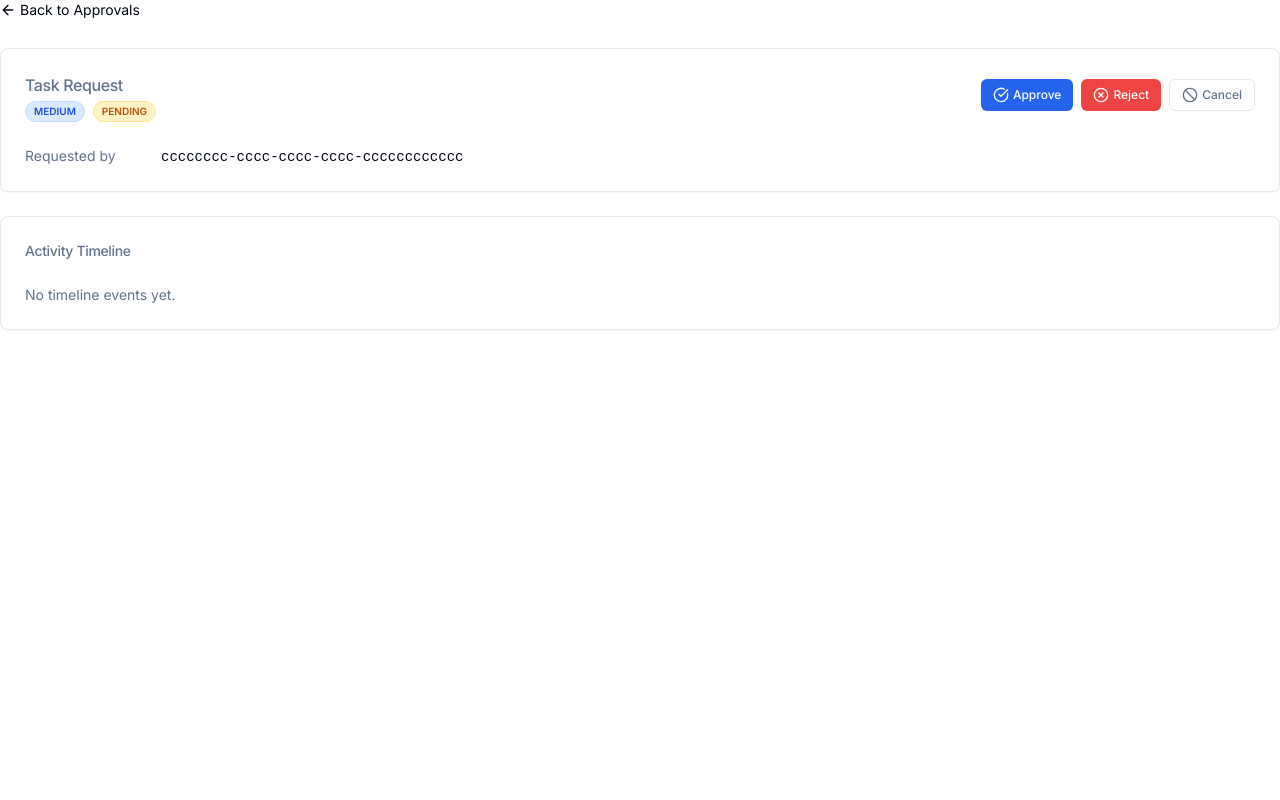
Test: ApprovalDetailPage › approve dialog › shows error when approve fails
Step 1. Click the button with test id "approve-btn" → [1027, 95], box [981,79,1073,111]
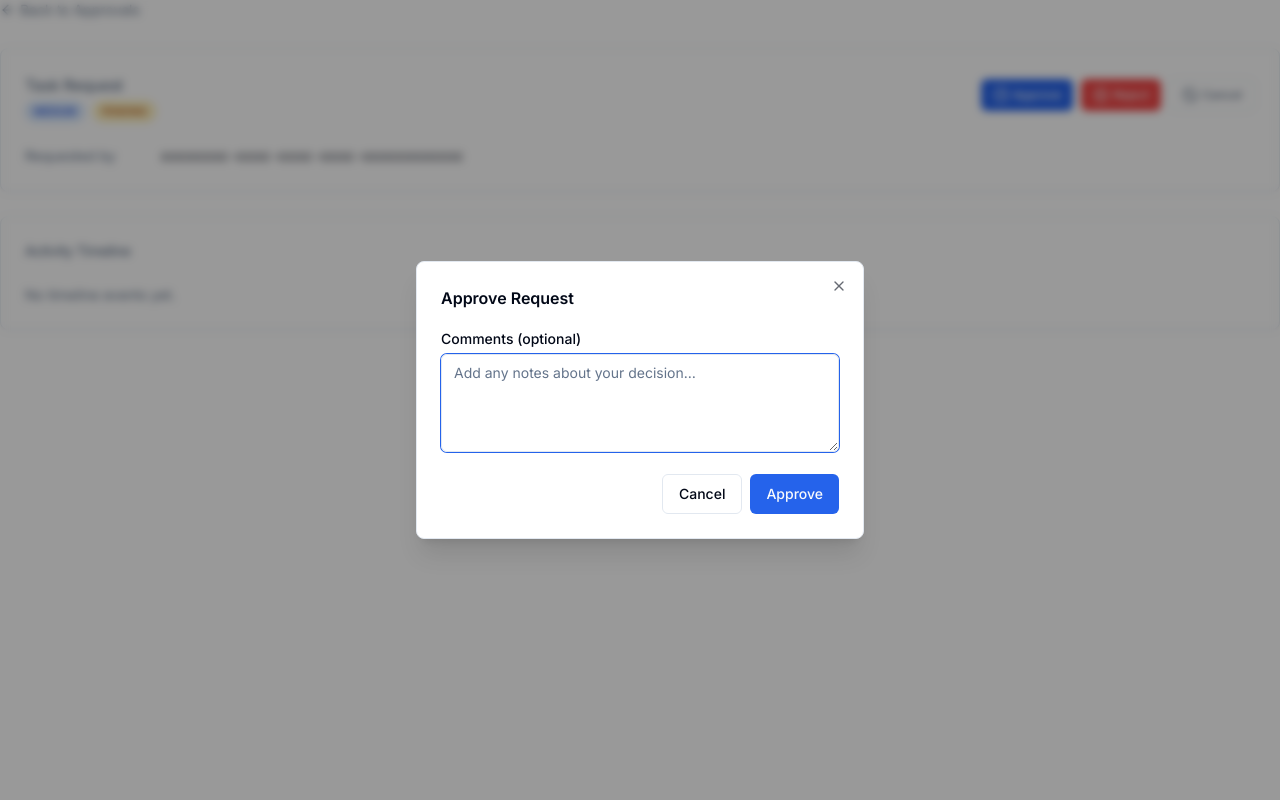
Step 2. Submit the form, box [441,326,839,514]
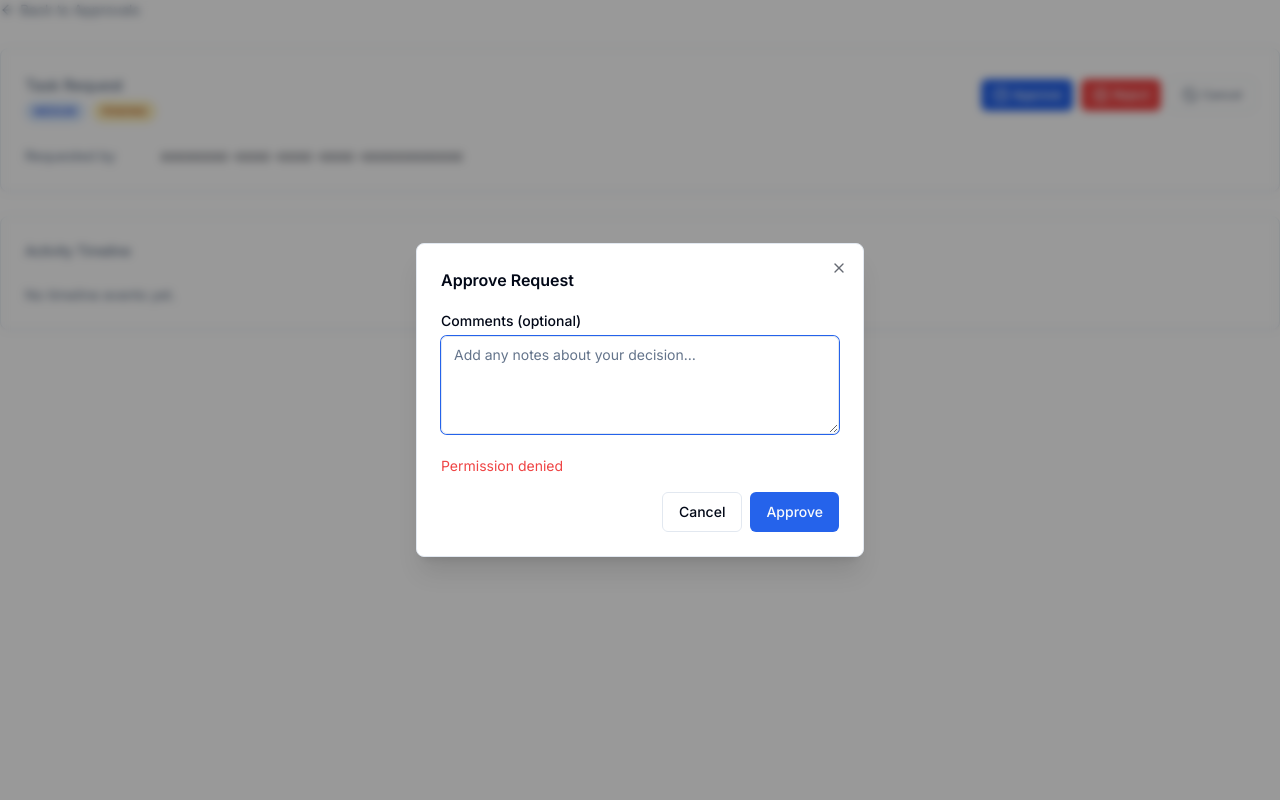
expect the text "Permission denied" is shown: met, box [441,457,563,474]
